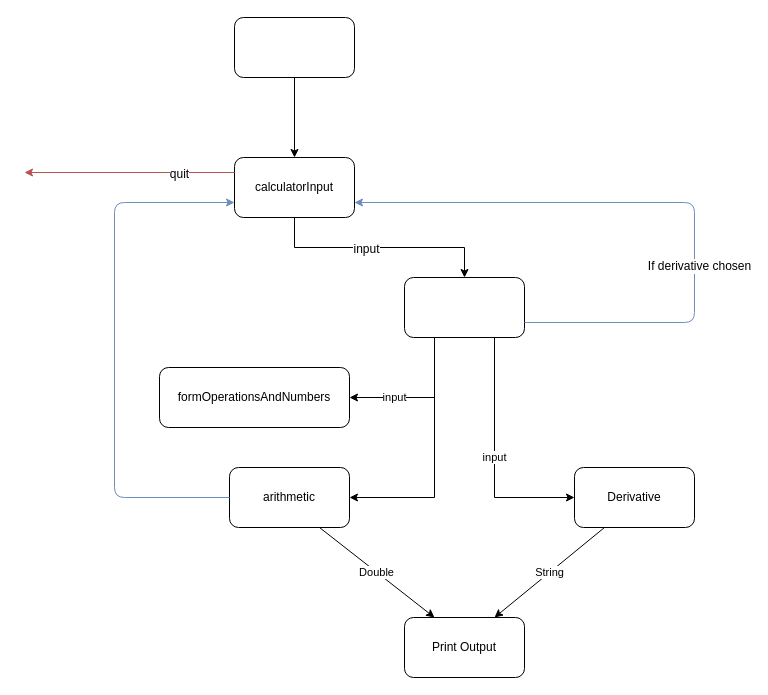
The diagram is 768 pixels wide and 695 high, and some of its shapes have lost their labels. Here are the shapes that lost their labels. From the top down, the centre of each, then its label:
the point at 294,47: main
the point at 464,307: chooseCalculation
